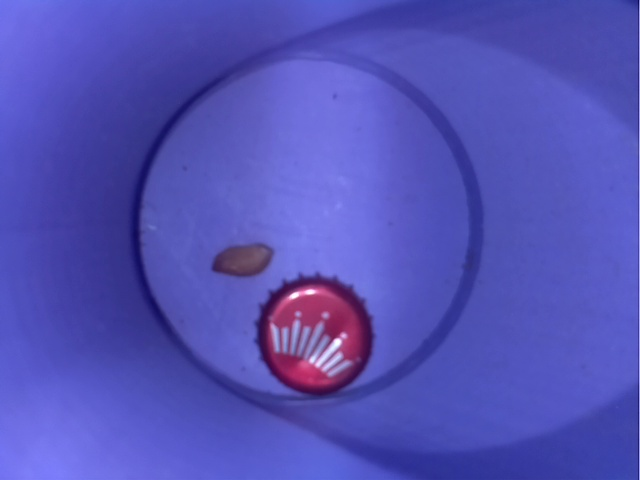capsule: (249, 268, 382, 407)
croquette: (202, 236, 289, 279)
